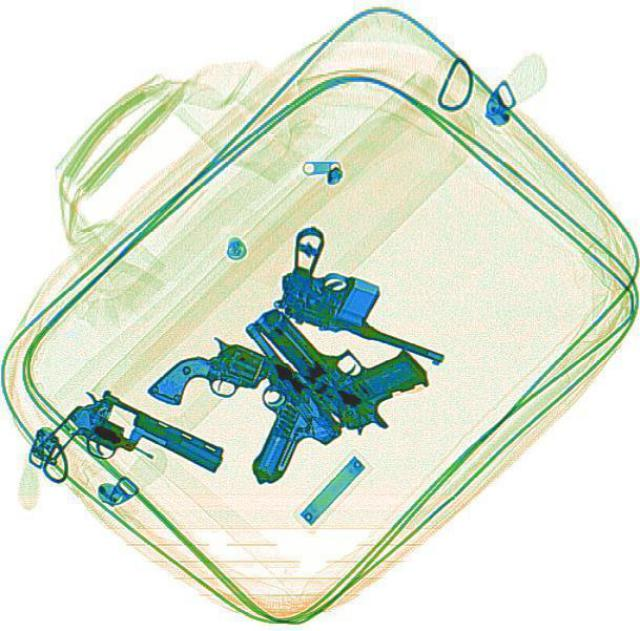Gun: (142, 318, 378, 476), (250, 264, 438, 447), (262, 219, 474, 368), (168, 316, 346, 487), (33, 376, 227, 529)
